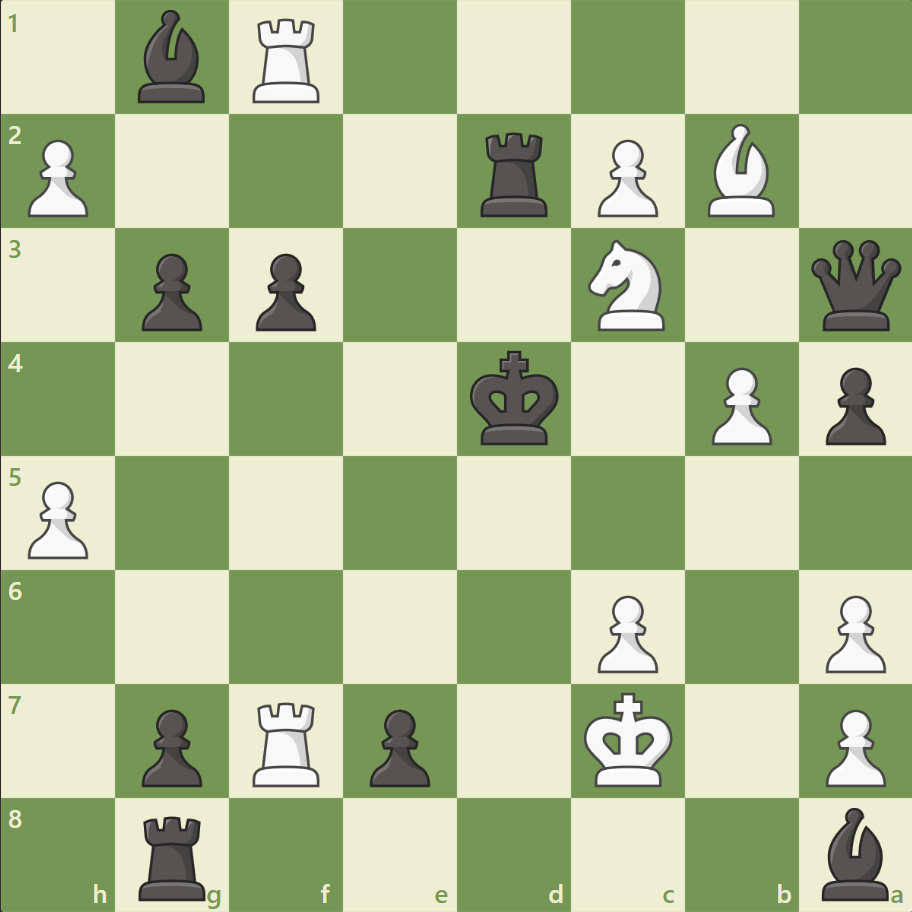B: (698, 120, 782, 222)
K: (579, 685, 679, 793)
N: (579, 234, 676, 337)
P: (20, 473, 95, 564), (701, 359, 776, 450), (20, 132, 95, 223), (815, 700, 889, 791), (815, 586, 889, 677), (588, 586, 662, 677), (588, 132, 662, 223)
R: (246, 693, 329, 790), (246, 12, 329, 109)
b: (812, 801, 896, 904), (131, 6, 215, 109)
k: (465, 344, 565, 452)
p: (133, 700, 208, 791), (247, 246, 322, 337), (133, 246, 208, 337), (361, 700, 435, 791), (815, 359, 889, 450)
q: (805, 236, 904, 335)
r: (473, 125, 556, 222), (133, 806, 215, 904)
